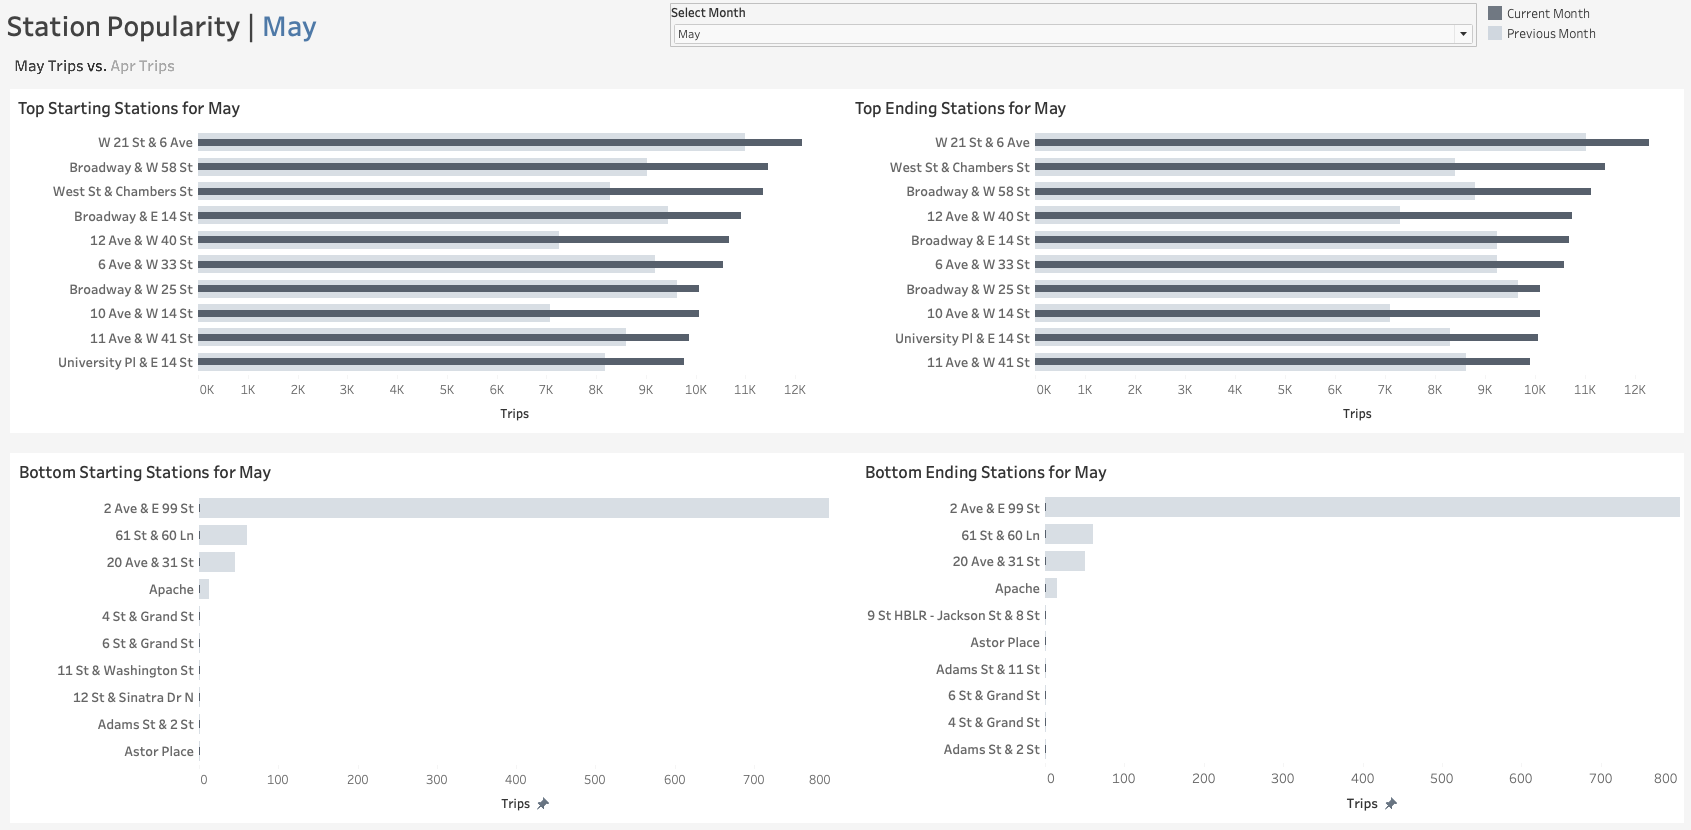

This screenshot's page, from the dashboard's own definition file:
{"tool":"tableau","page":{"name":"Station Popularity","canvas":[1000,1000],"units":"permille","ordinal":2},"visuals":[{"type":"text","box":[0,0,457.7,52.6]},{"type":"parameter","param":"[Parameters].[Parameter 1]","box":[457.7,0,395.9,52.6]},{"type":"legend","title":"Top Starting Stations","param":"[federated.02sm7nr1siw9os1d3kso008bdk6i].[:Measure Names]","box":[853.6,0,146.4,52.6]},{"type":"worksheet","title":"Legend CM_PM","mark":"Automatic","box":[0,52.6,1000,184.2]},{"type":"worksheet","title":"Top Starting Stations","mark":"Bar","rows":["start_station_name"],"cols":["CM Trips (copy)_2813975771367456798","Calculation_2813975771363704857"],"box":[6.9,247,493.5,348.2]},{"type":"worksheet","title":"Top Ending Stations","mark":"Bar","rows":["end_station_name"],"cols":["CM Trips (copy)_2813975771367456798","Calculation_2813975771363704857"],"box":[500.3,247,492.8,348.2]},{"type":"worksheet","title":"Bottom Starting Stations","mark":"Bar","rows":["start_station_name"],"cols":["CM Trips (copy)_2813975771367456798","Calculation_2813975771363704857"],"box":[6.9,615.4,493.5,374.5]},{"type":"worksheet","title":"Bottom Ending Stations","mark":"Bar","rows":["end_station_name"],"cols":["CM Trips (copy)_2813975771367456798","Calculation_2813975771363704857"],"box":[500.3,615.4,492.8,374.5]}]}

Visuals, with their boxes on the dashboard's canvas, which has no fixed pixel size, in thousandths of its width and height (x1, y1, x2, y2). These are canvas units, not pixel positions in the 1691x830 screenshot, which may show the page scaled, cropped or inside an application window:
text: select_region(0, 0, 458, 53)
parameter: select_region(458, 0, 854, 53)
"Top Starting Stations" legend: select_region(854, 0, 1000, 53)
"Legend CM_PM" worksheet: select_region(0, 53, 1000, 237)
"Top Starting Stations" worksheet (Bar marks): select_region(7, 247, 500, 595)
"Top Ending Stations" worksheet (Bar marks): select_region(500, 247, 993, 595)
"Bottom Starting Stations" worksheet (Bar marks): select_region(7, 615, 500, 990)
"Bottom Ending Stations" worksheet (Bar marks): select_region(500, 615, 993, 990)
